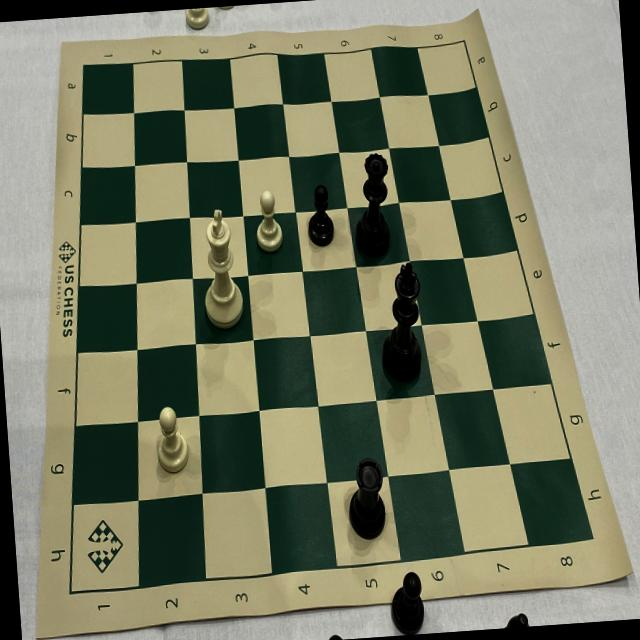black-king: (371, 258, 429, 388)
black-pawn: (298, 178, 338, 249)
black-queen: (346, 146, 398, 268)
black-rook: (343, 450, 391, 544)
white-king: (188, 203, 248, 336)
white-pawn: (146, 401, 196, 476), (248, 187, 288, 255)
